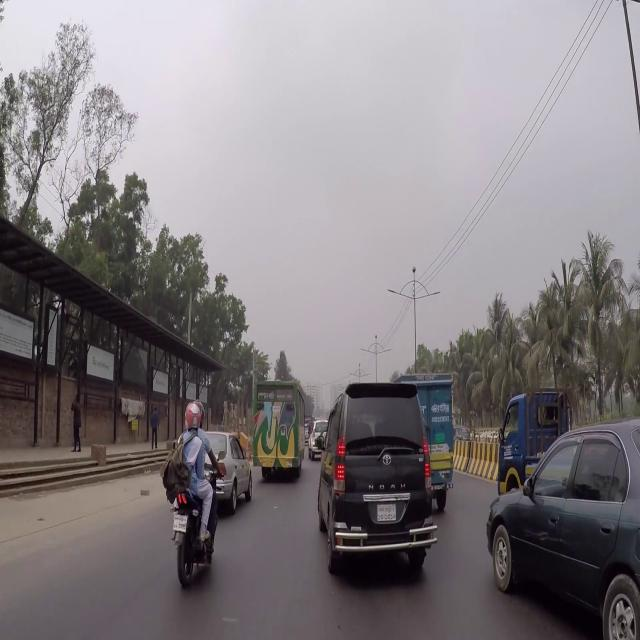black: (486, 417, 639, 638), (316, 380, 438, 576)
silver: (202, 429, 253, 514)
white: (309, 419, 330, 457)
